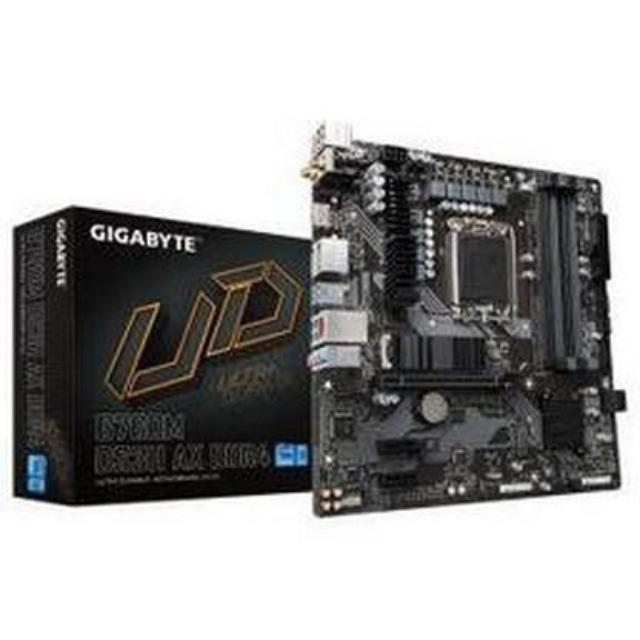Mainboard: (303, 110, 625, 516)
